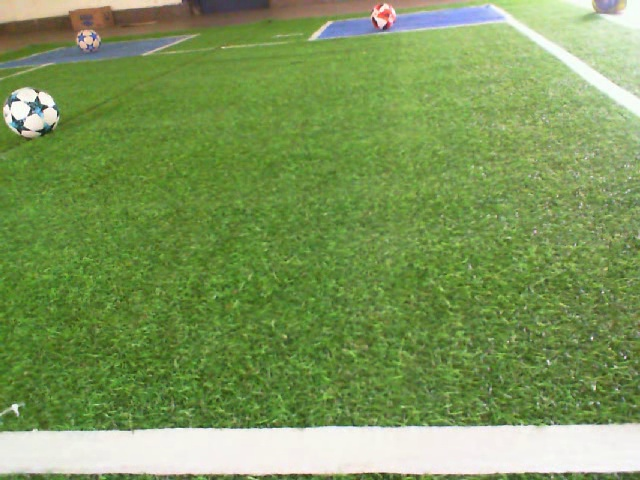ball: (1, 83, 61, 140), (369, 1, 399, 32), (74, 27, 104, 53)
